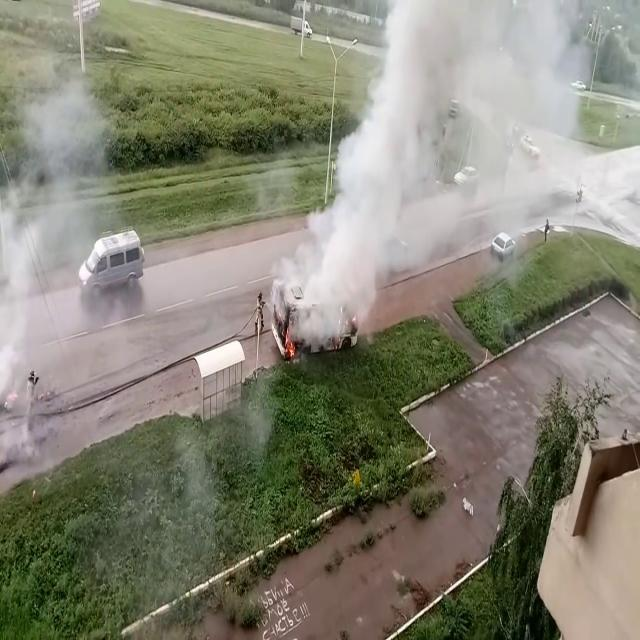Smoke: (286, 0, 638, 354), (0, 46, 135, 494)
